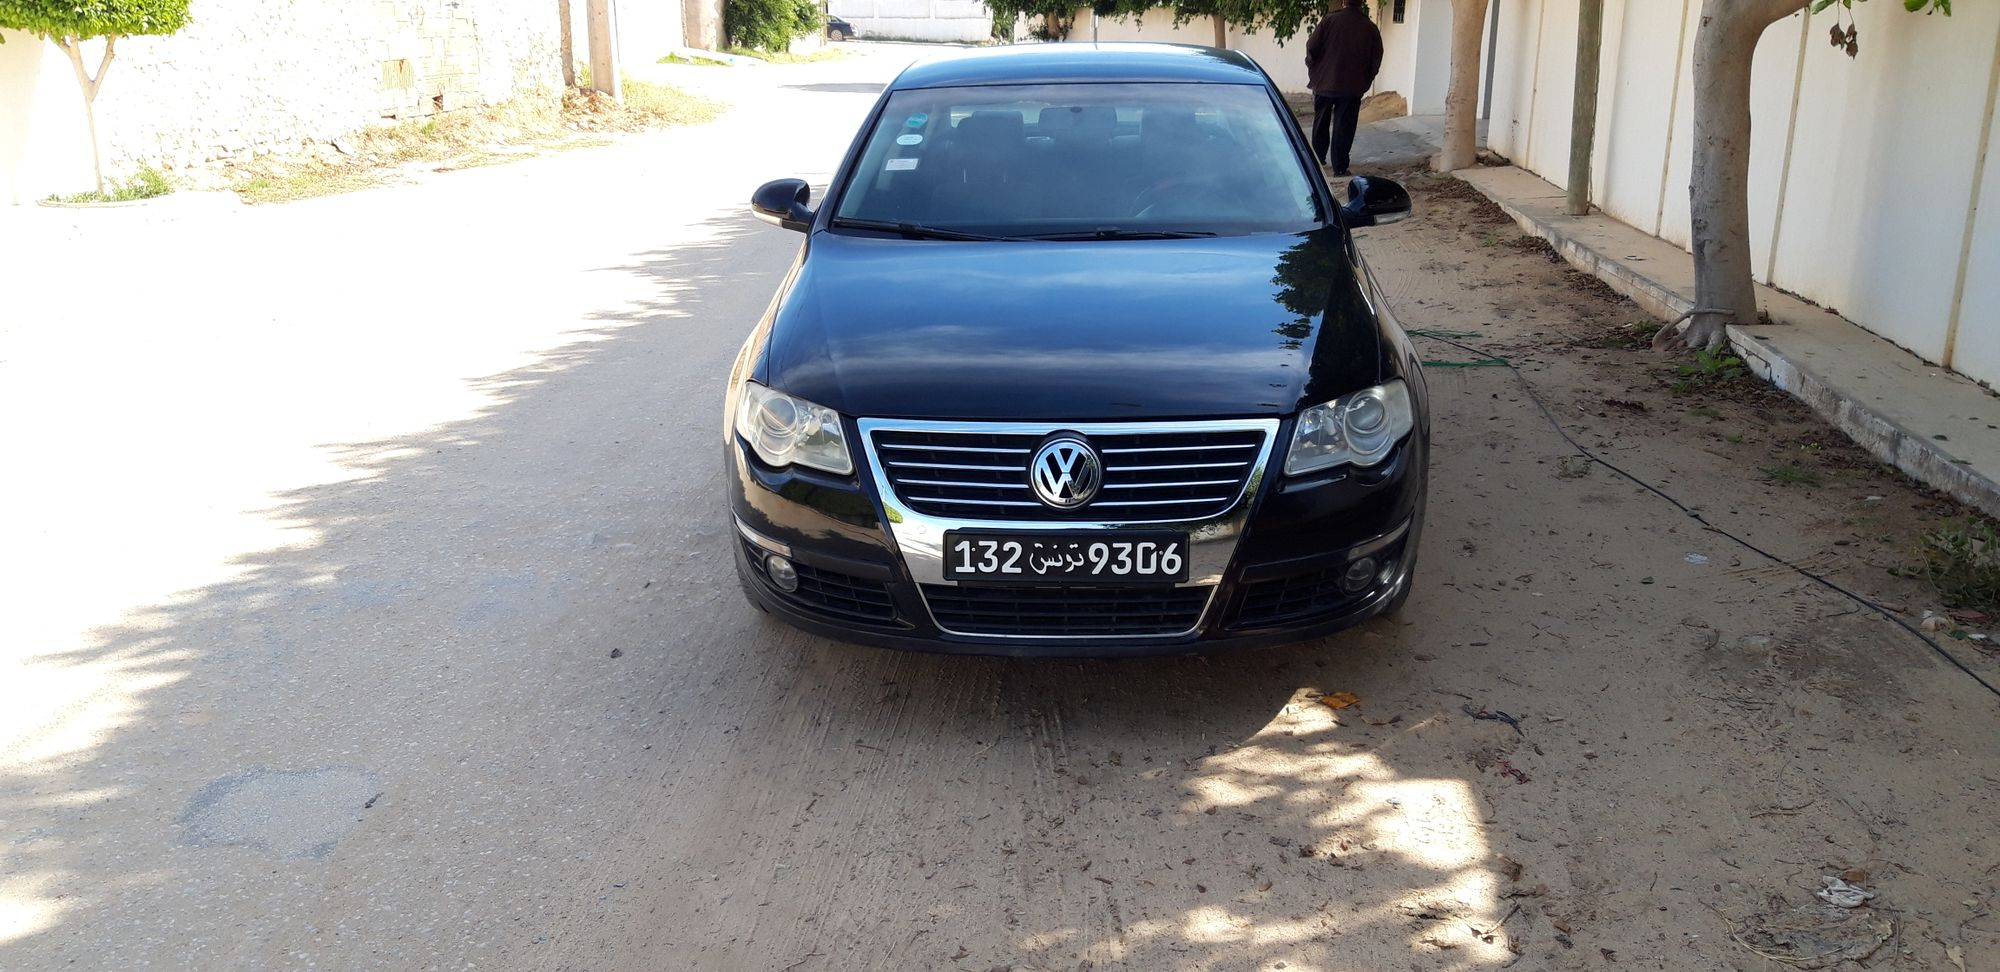LP: (942, 527, 1195, 585)
